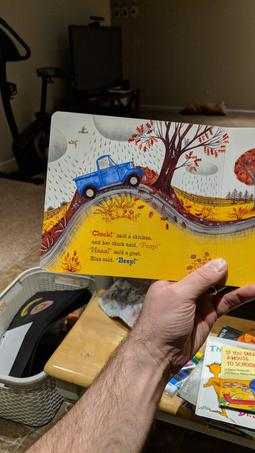text block: (81, 218, 163, 267)
